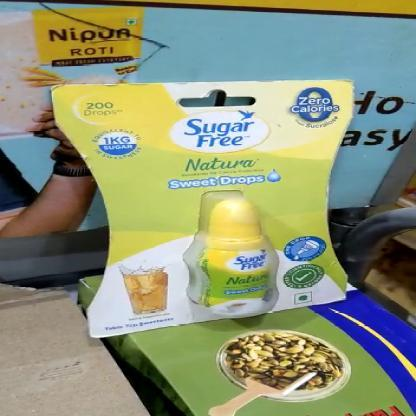SUGAR FREE NATURA SWEET DROPS: (52, 79, 351, 337)
